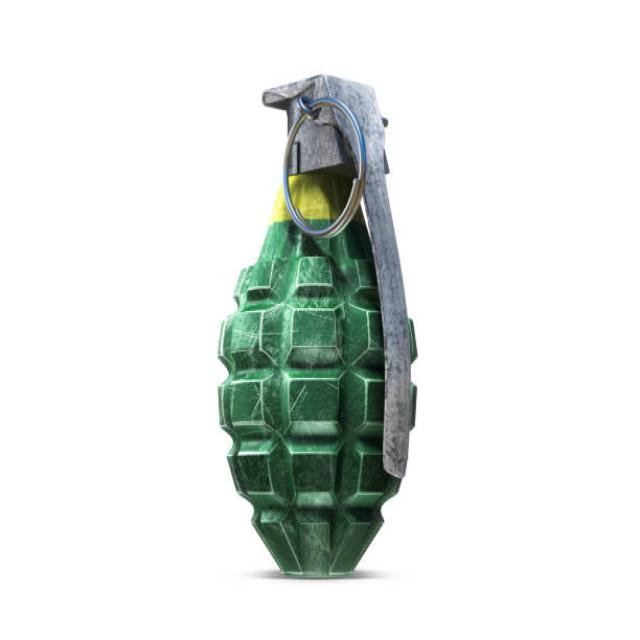grenade: (210, 61, 424, 591)
